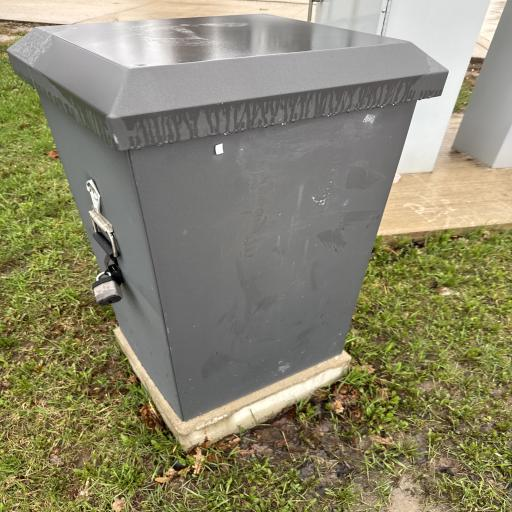Electrical Box: (5, 12, 450, 426)
